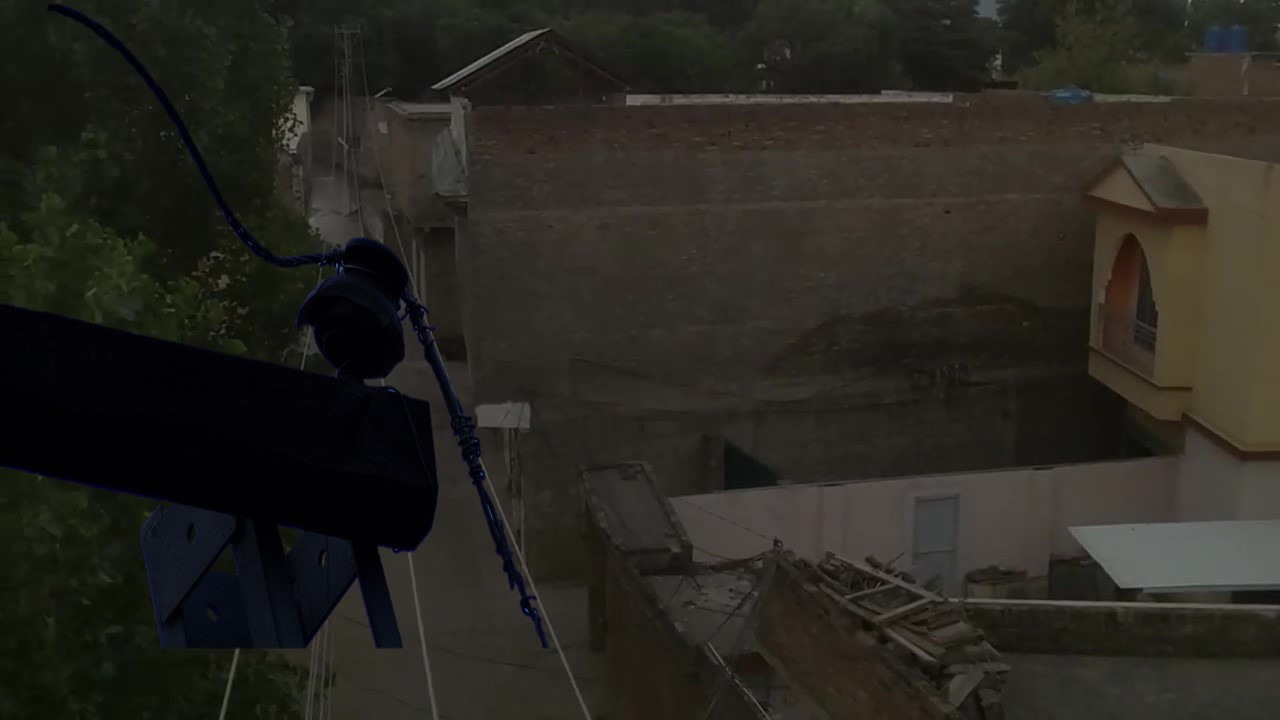defect_pin: (290, 228, 427, 386)
